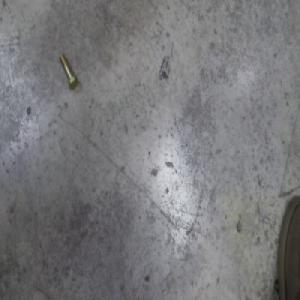Bolt: (59, 52, 79, 90)
